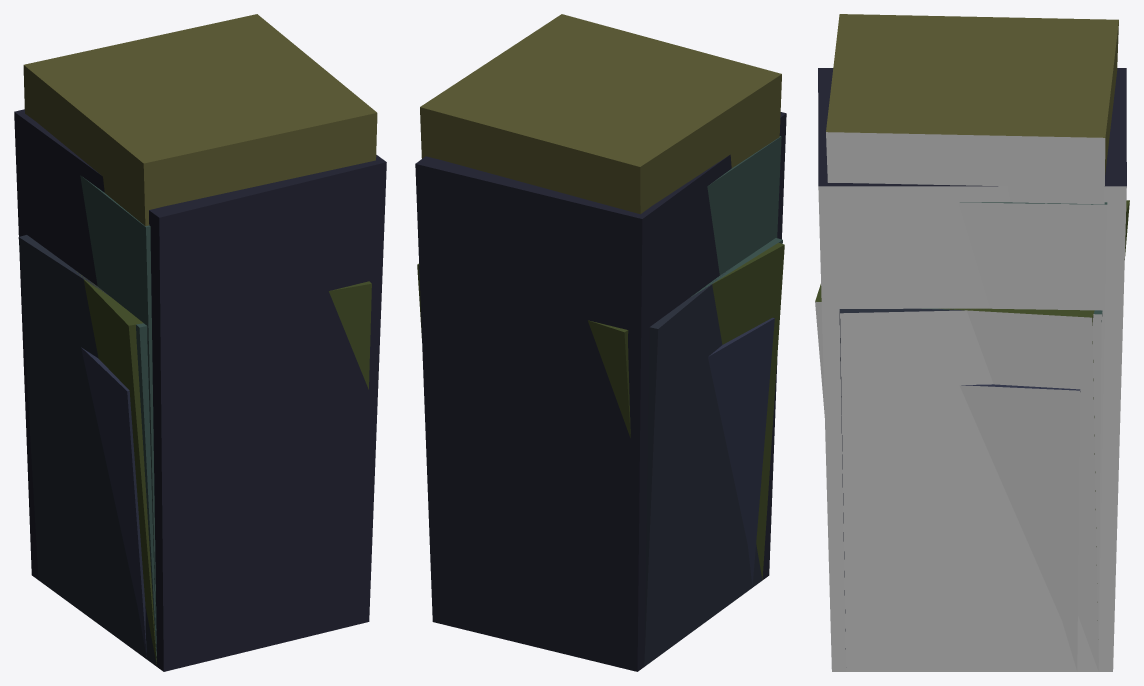
The model's file is smallvaults.fbx.
3 renders of one model, left to right at view 1: azimuth 30°, elevation 25°; view 2: azimuth 150°, elevation 25°; view 3: azimuth 270°, elevation 25°, orthographic. The views are drawn at different scales.
Parts seen in each view (by area): view 1: SmallVault.003, SmallVault.007, SmallVault.004, SmallVault.006, SmallVault.001, SmallVault.005, SmallVault.002; view 2: SmallVault.003, SmallVault.007, SmallVault.004, SmallVault.006, SmallVault.005, SmallVault.001; view 3: SmallVault.004, SmallVault.007, SmallVault.003, SmallVault.005, SmallVault.001, SmallVault.006, SmallVault.002.
Part boxes in pixels (x1,y1,x2,y2): SmallVault.003: [14, 109, 386, 671]; SmallVault.007: [23, 14, 377, 226]; SmallVault.004: [18, 235, 156, 666]; SmallVault.006: [76, 271, 371, 665]; SmallVault.001: [80, 175, 156, 657]; SmallVault.005: [81, 347, 146, 658]; SmallVault.002: [136, 323, 156, 662]; SmallVault.003: [415, 112, 786, 671]; SmallVault.007: [420, 14, 781, 214]; SmallVault.004: [644, 267, 762, 666]; SmallVault.006: [417, 242, 784, 579]; SmallVault.005: [708, 317, 774, 587]; SmallVault.001: [707, 136, 781, 275]; SmallVault.004: [839, 308, 1098, 671]; SmallVault.007: [826, 14, 1118, 204]; SmallVault.003: [818, 68, 1126, 671]; SmallVault.005: [959, 384, 1080, 670]; SmallVault.001: [958, 202, 1107, 667]; SmallVault.006: [815, 200, 1129, 670]; SmallVault.002: [922, 308, 1102, 662].
Size of the model in its own units: 1.94 by 1.94 by 3.68.
